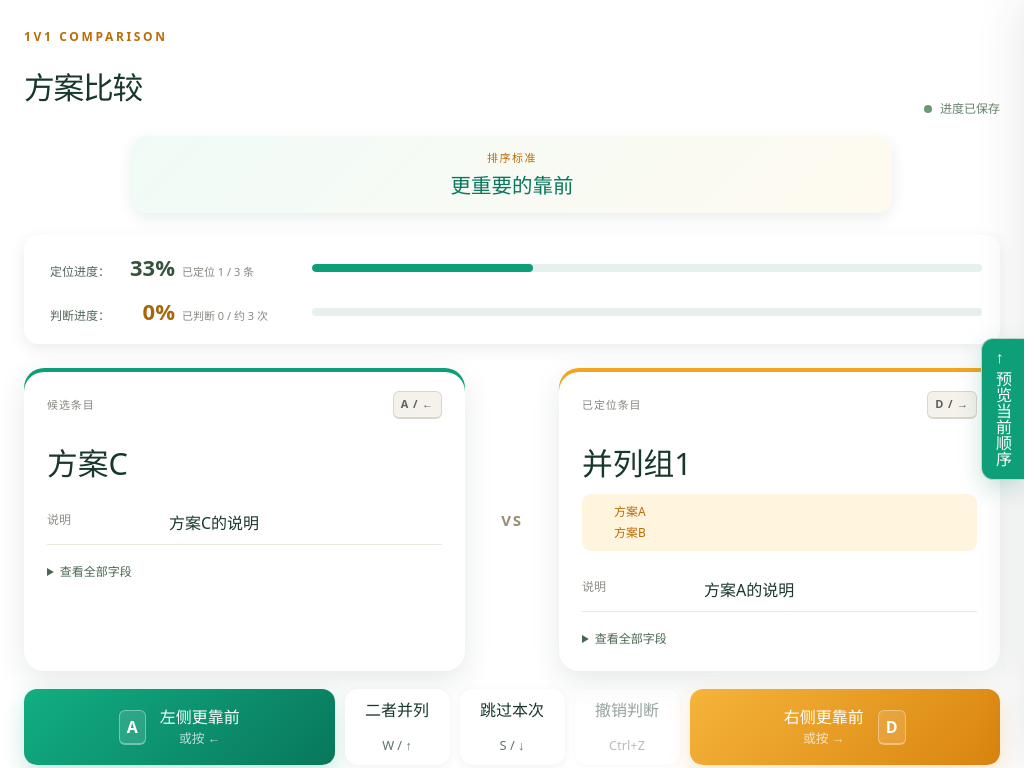
ComparisonWorkspace › 双击并列组大标题后重命名，下方仅分行显示组内对象
Expected: the element with class "comparison-tie-members" does not show "并列组1", [582, 494, 977, 552]
Double-click the heading "并列组1": (637, 463) [582, 444, 692, 482]
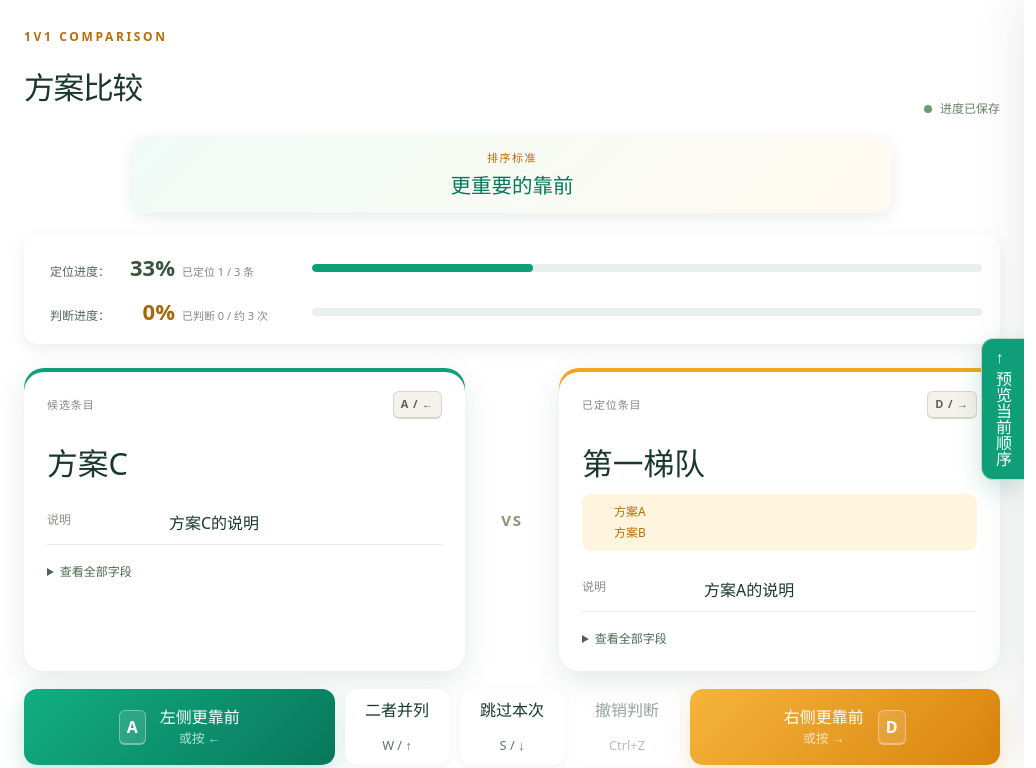
Expected: the element with class "comparison-tie-members" does not show "第一梯队", [582, 494, 977, 552]
Expected: the heading "第一梯队" is shown, [582, 444, 705, 482]
